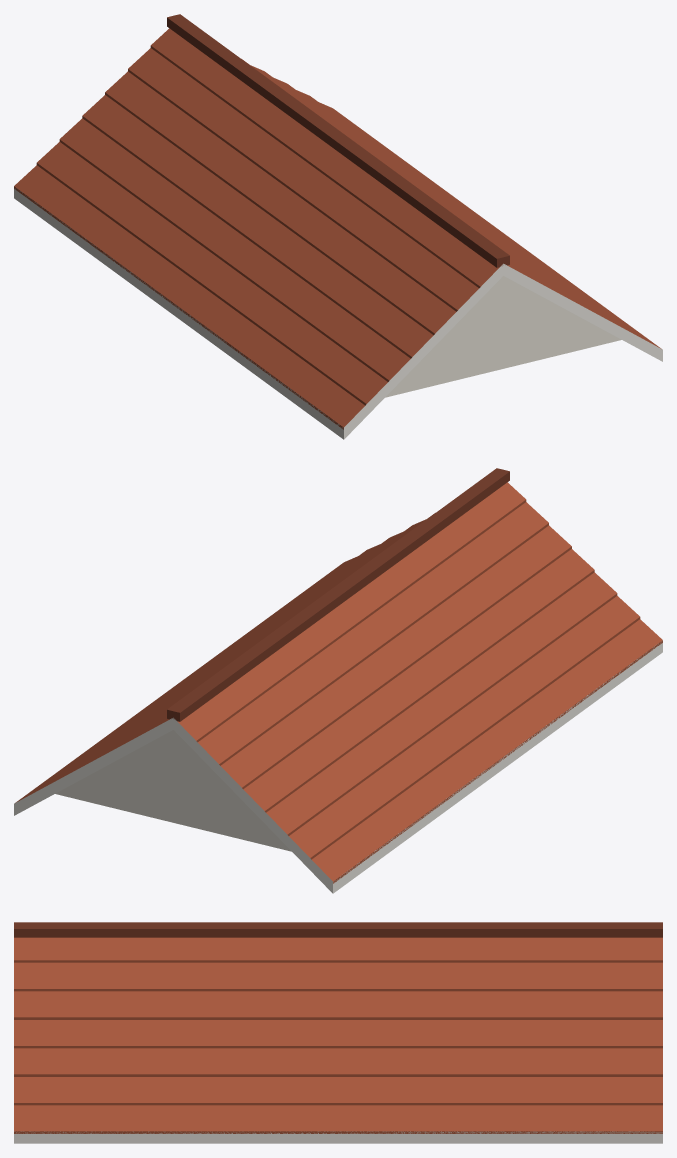
File: mod-telhado-barro-2x4.gltf
3 renders of one model, top to bottom at view 1: azimuth 30°, elevation 25°; view 2: azimuth 150°, elevation 25°; view 3: azimuth 270°, elevation 25°, orthographic.
Parts seen in each view (by area): view 1: mod-telhado-barro-2x4; view 2: mod-telhado-barro-2x4; view 3: mod-telhado-barro-2x4.
Boxes of the visible parts, box(x1,y1,x2,y2) form: mod-telhado-barro-2x4: box(14, 14, 662, 439); mod-telhado-barro-2x4: box(14, 468, 662, 893); mod-telhado-barro-2x4: box(14, 922, 662, 1143).
Size of the model in its own units: 2.4 by 1.03 by 4.3.
